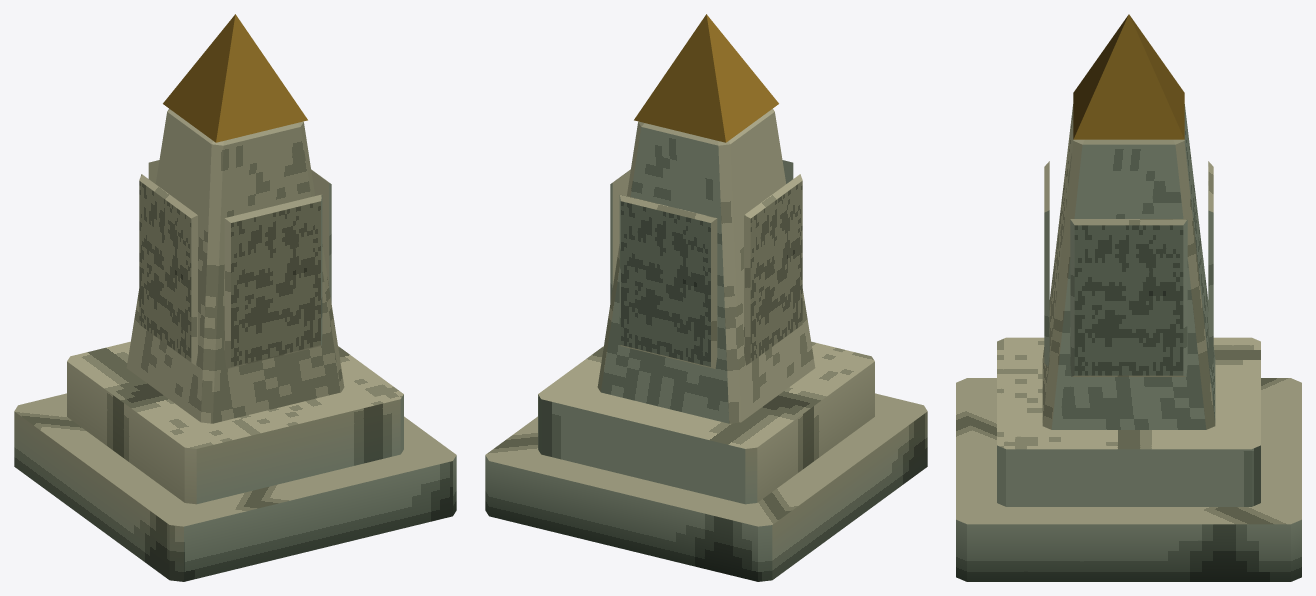
Rendered from ruin.obelisk__short.glb.
3 renders of one model, left to right at view 1: azimuth 30°, elevation 25°; view 2: azimuth 150°, elevation 25°; view 3: azimuth 270°, elevation 25°, orthographic. The views are drawn at different scales.
Visible parts, largest first — view 1: kit_base, kit_shaft, kit_glyphs, kit_cap; view 2: kit_base, kit_shaft, kit_glyphs, kit_cap; view 3: kit_base, kit_shaft, kit_glyphs, kit_cap.
Part boxes in pixels (box(x1,y1,x2,y2)): kit_base: box(14, 341, 456, 581); kit_shaft: box(126, 108, 344, 423); kit_glyphs: box(139, 160, 331, 368); kit_cap: box(163, 14, 307, 142); kit_base: box(485, 341, 927, 581); kit_shaft: box(597, 108, 815, 423); kit_glyphs: box(610, 160, 802, 368); kit_cap: box(634, 14, 778, 142); kit_base: box(956, 337, 1301, 581); kit_shaft: box(1042, 104, 1215, 429); kit_glyphs: box(1044, 161, 1213, 376); kit_cap: box(1073, 14, 1184, 139).
Size of the model in its own units: 1.9 by 3 by 1.9.
4 materials, 3 textured.
